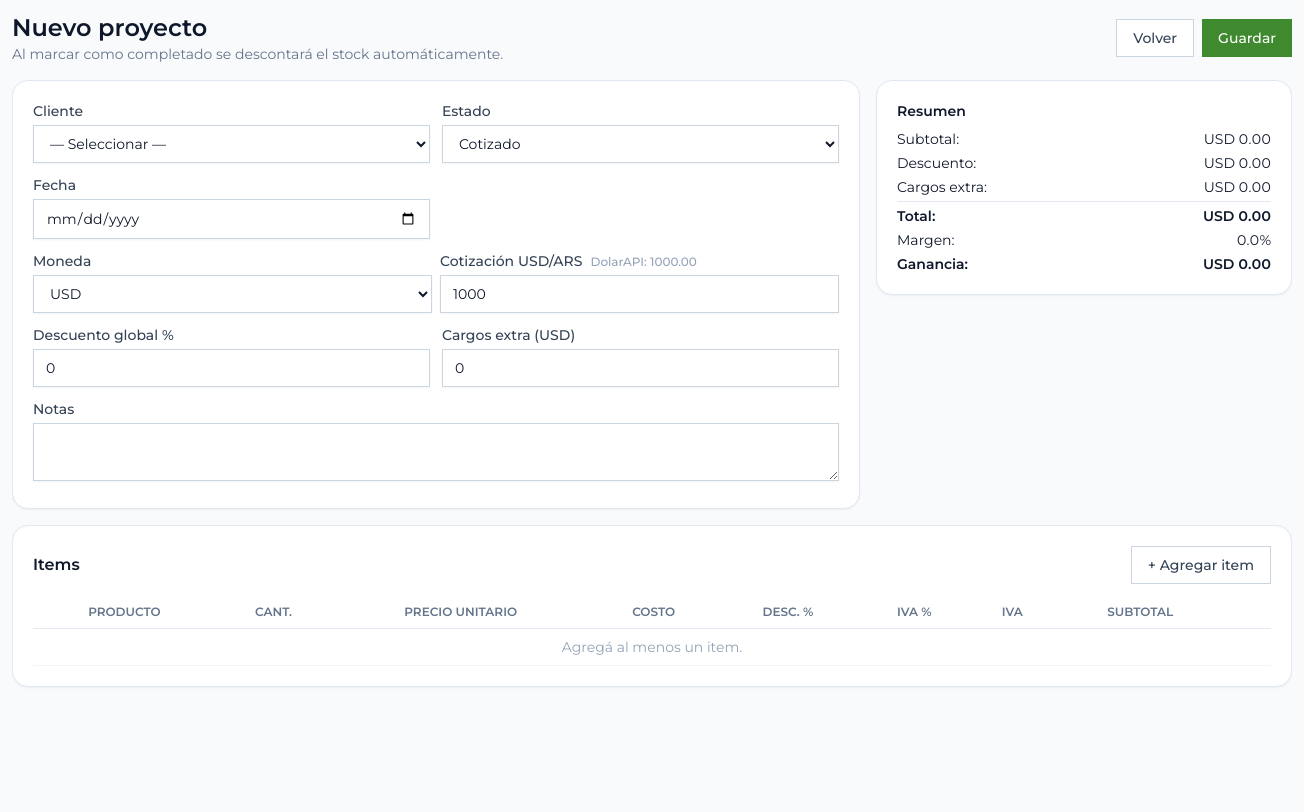
Scenario: ProjectFormPage › blocks submission and shows banner when there are no items
This screenshot has width=1304, height=812.
Step 1. Select "Cliente Uno" in the dropdown named "Cliente Uno" below "Cliente" → coordinates (232, 144), box x1=33 y1=125 x2=430 y2=163
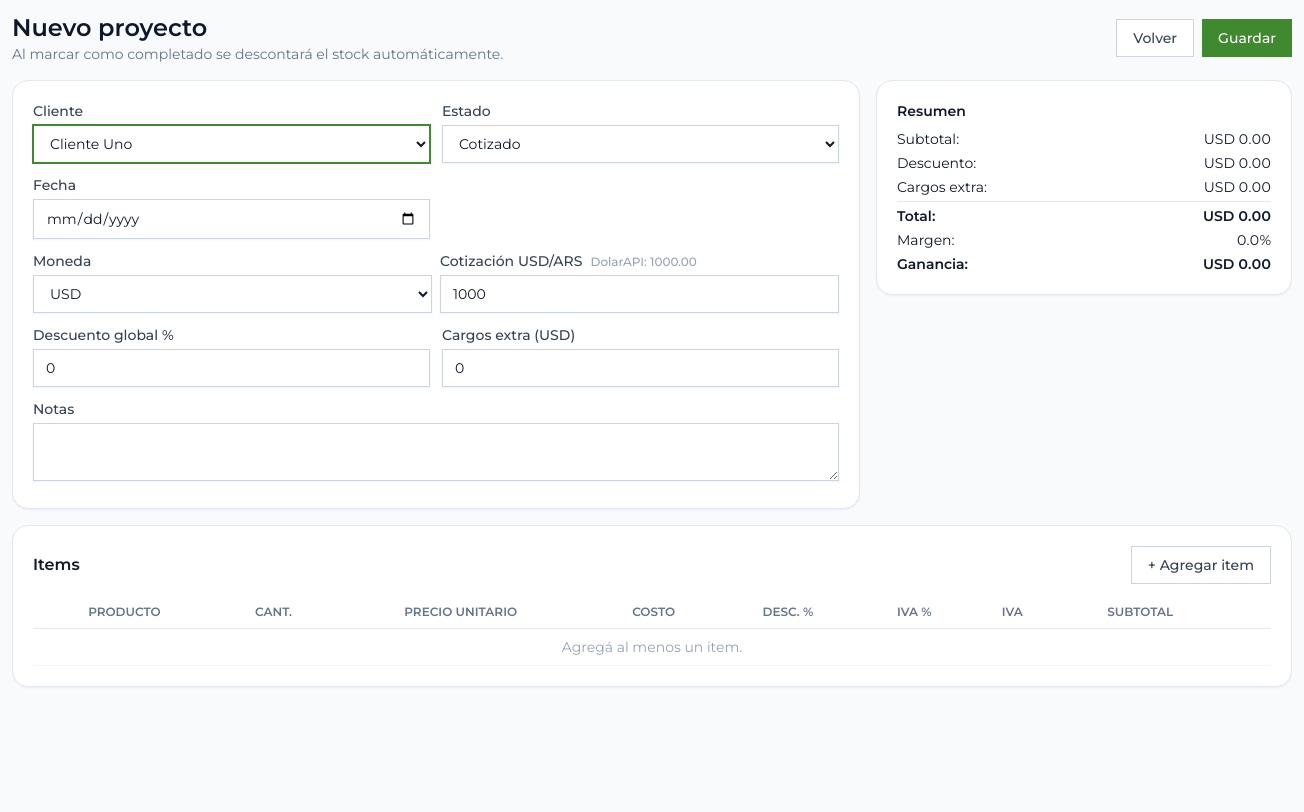
Step 2. Click the button "Guardar" → coordinates (1247, 38), box x1=1202 y1=19 x2=1292 y2=57
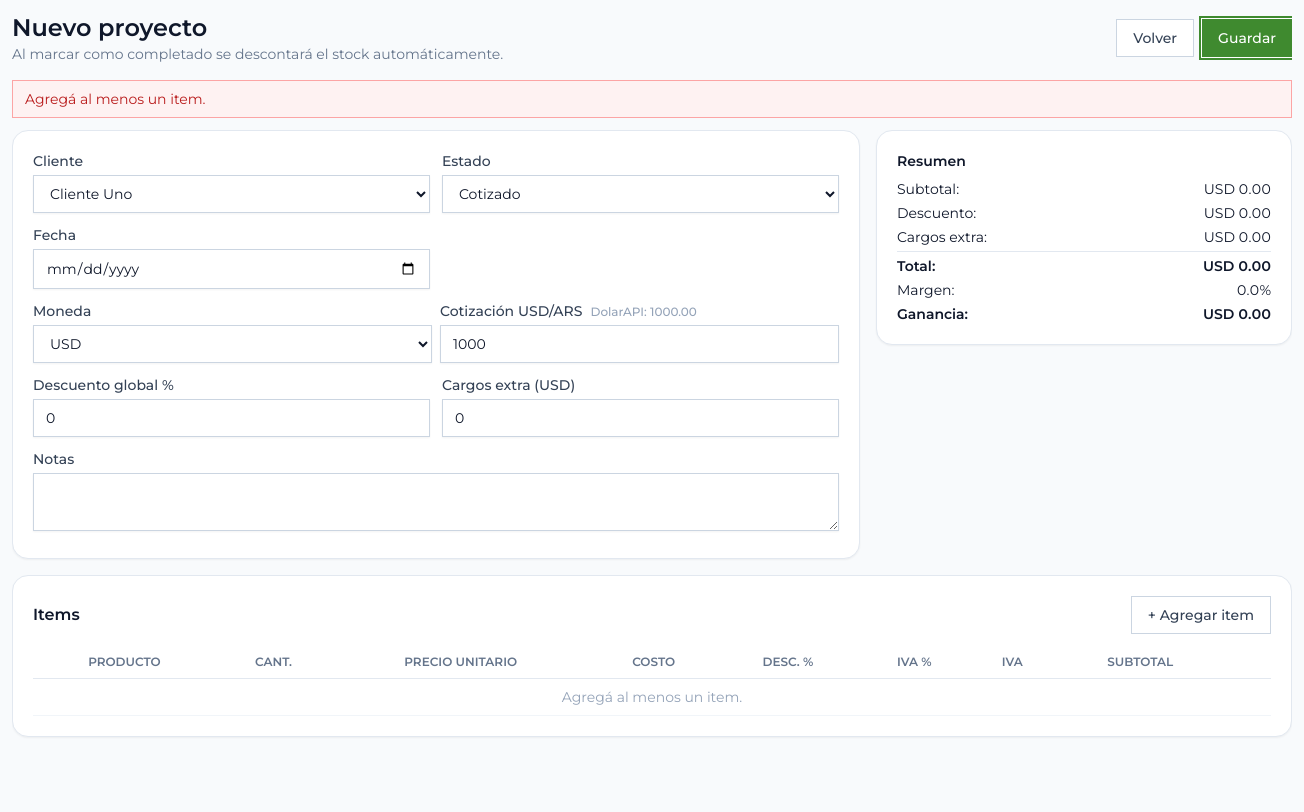
Now the message shows "Agregá al menos un item", box x1=25 y1=90 x2=206 y2=108
